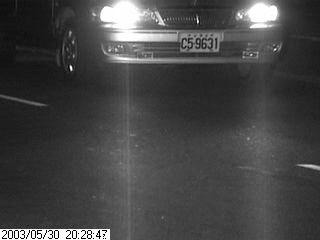plate: (178, 30, 221, 55)
